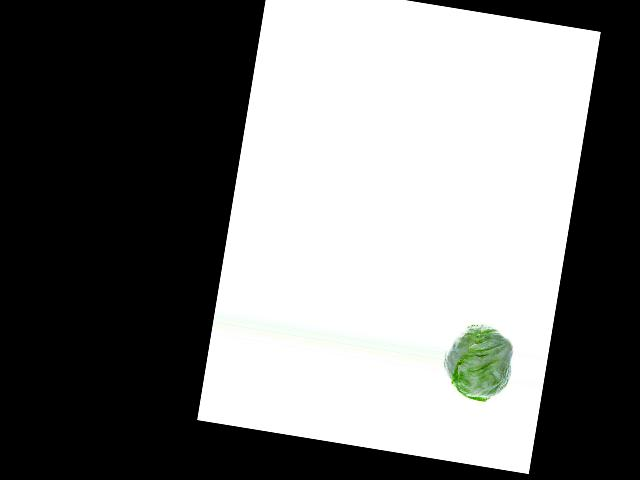lettuce: (440, 320, 514, 403)
